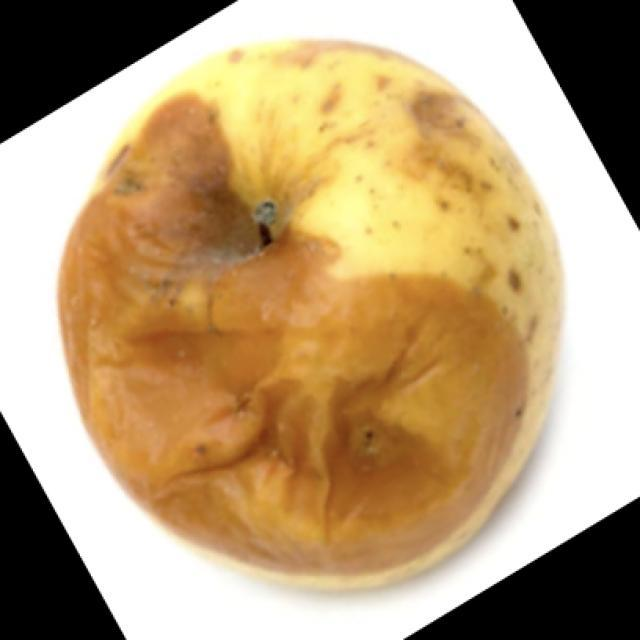Rotten: (65, 46, 572, 566)
